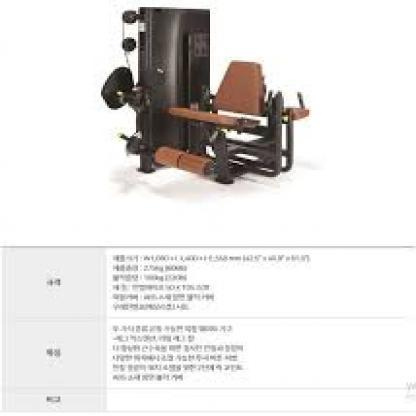leg extension: (99, 0, 316, 204)
